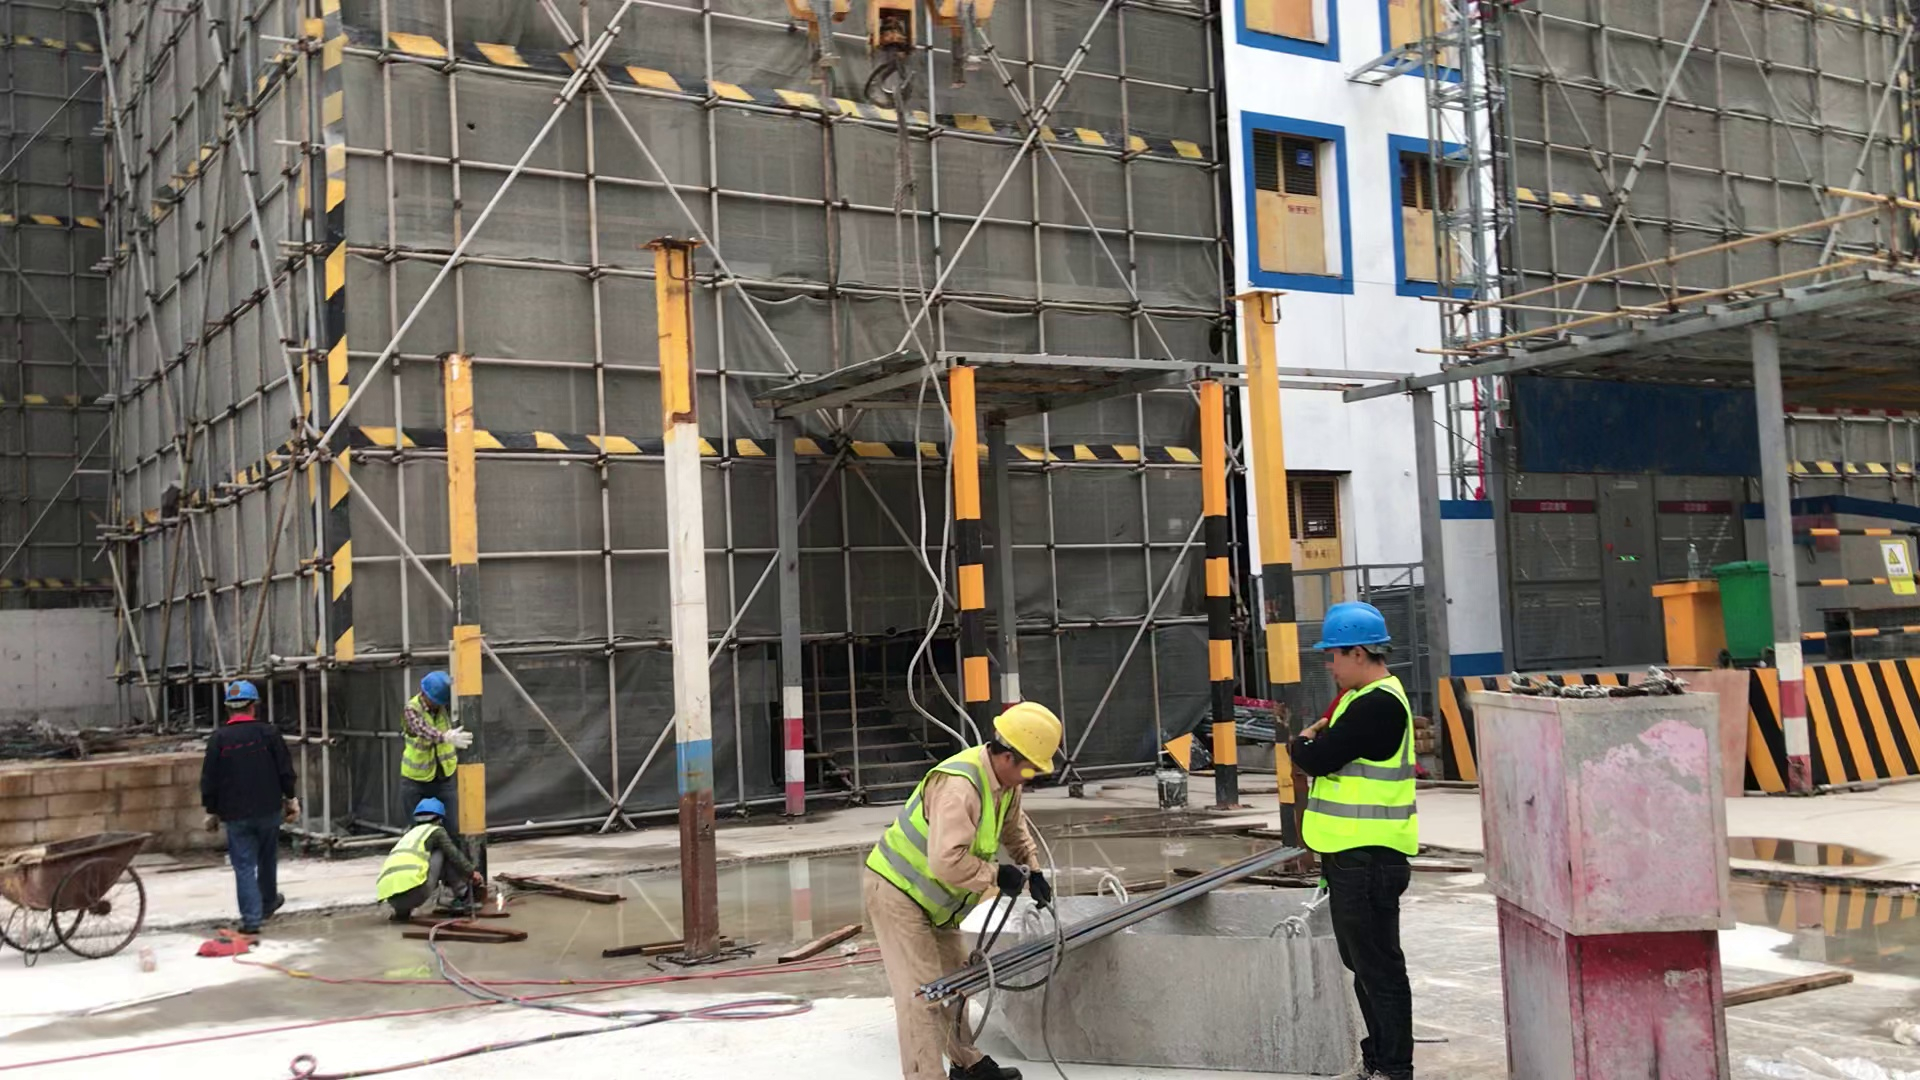helmet: (1298, 589, 1420, 660), (985, 681, 1062, 784), (412, 666, 462, 710), (217, 676, 273, 715), (406, 793, 461, 824)
person: (1283, 593, 1463, 1080), (862, 687, 1074, 1080), (200, 676, 298, 935), (382, 796, 481, 933), (394, 664, 479, 814)
vest: (860, 741, 1022, 941), (1297, 677, 1441, 873), (370, 818, 470, 901), (395, 692, 474, 789)
